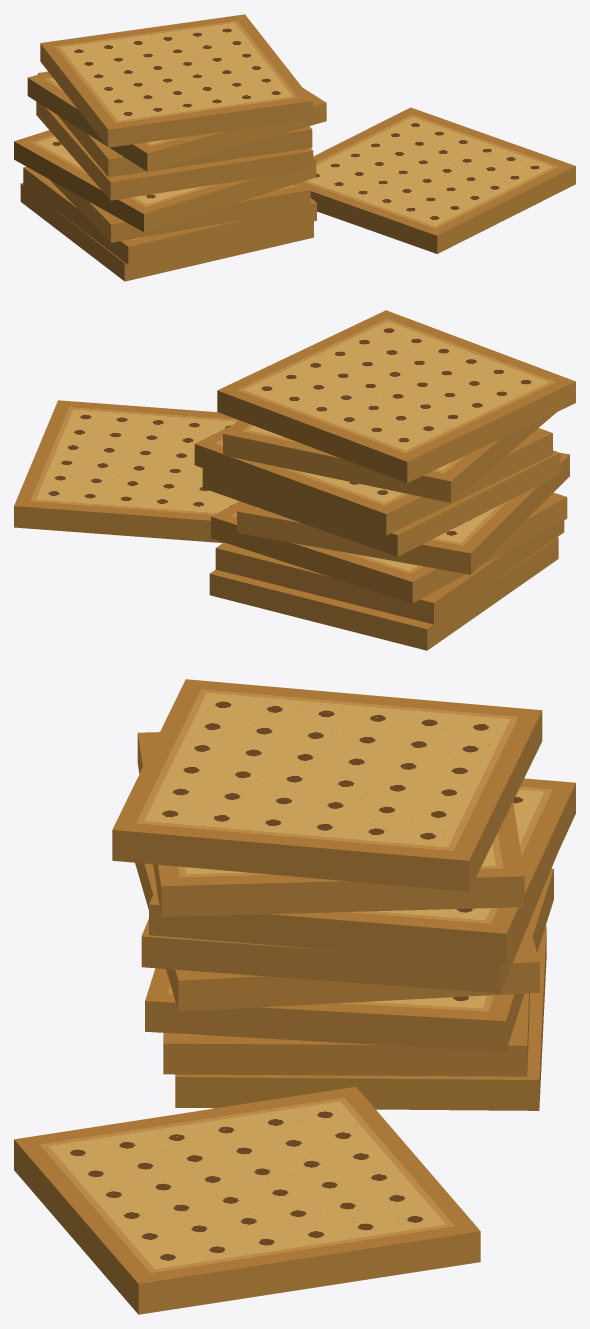
Rendered from Crackers.fbx.
3 renders of one model, top to bottom at view 1: azimuth 30°, elevation 25°; view 2: azimuth 150°, elevation 25°; view 3: azimuth 270°, elevation 25°, orthographic. The views are drawn at different scales.
Visible parts, largest first — view 1: Crackers; view 2: Crackers; view 3: Crackers.
Part boxes in pixels (x1,y1,x2,y2): Crackers: (14, 14, 575, 281); Crackers: (14, 310, 575, 650); Crackers: (14, 679, 575, 1314).
Size of the model in its own units: 0.1831 by 0.0595 by 0.1157.
Materials: 2 (1 with a texture image).
